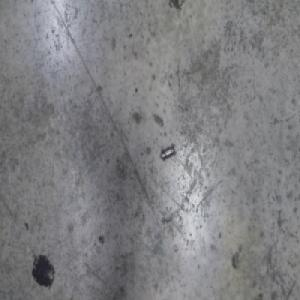Bolt: (160, 143, 176, 162)
